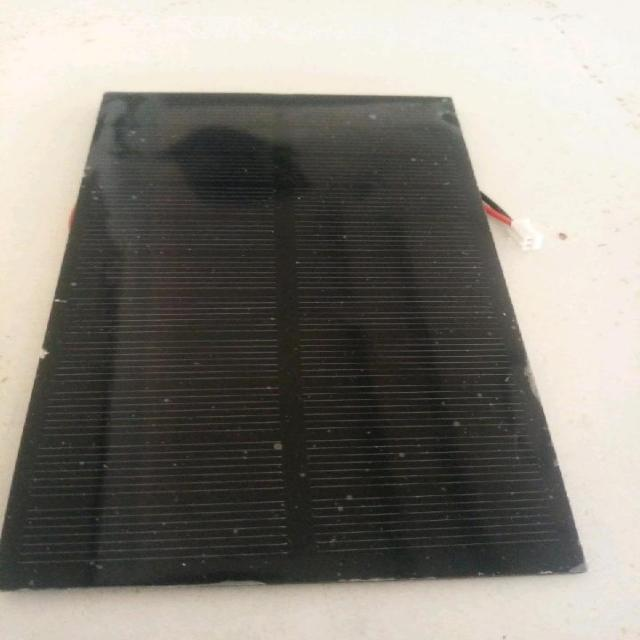faulty: (22, 109, 529, 598)
